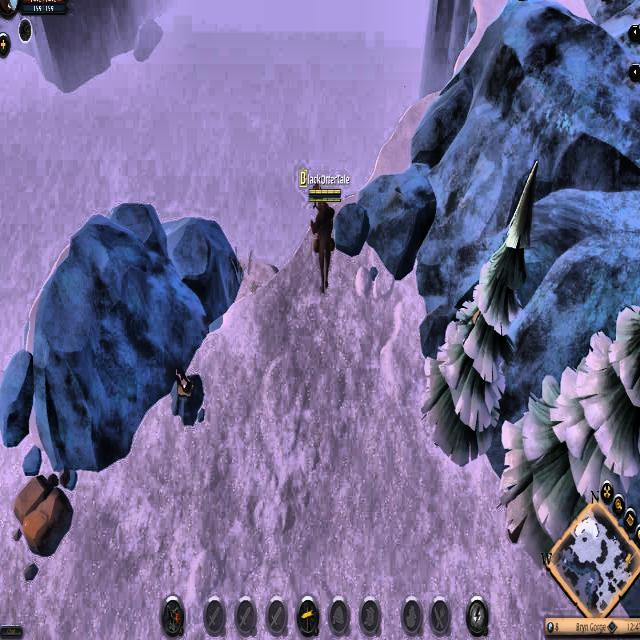copperore: (166, 362, 206, 428)
limestone: (10, 474, 73, 560)
